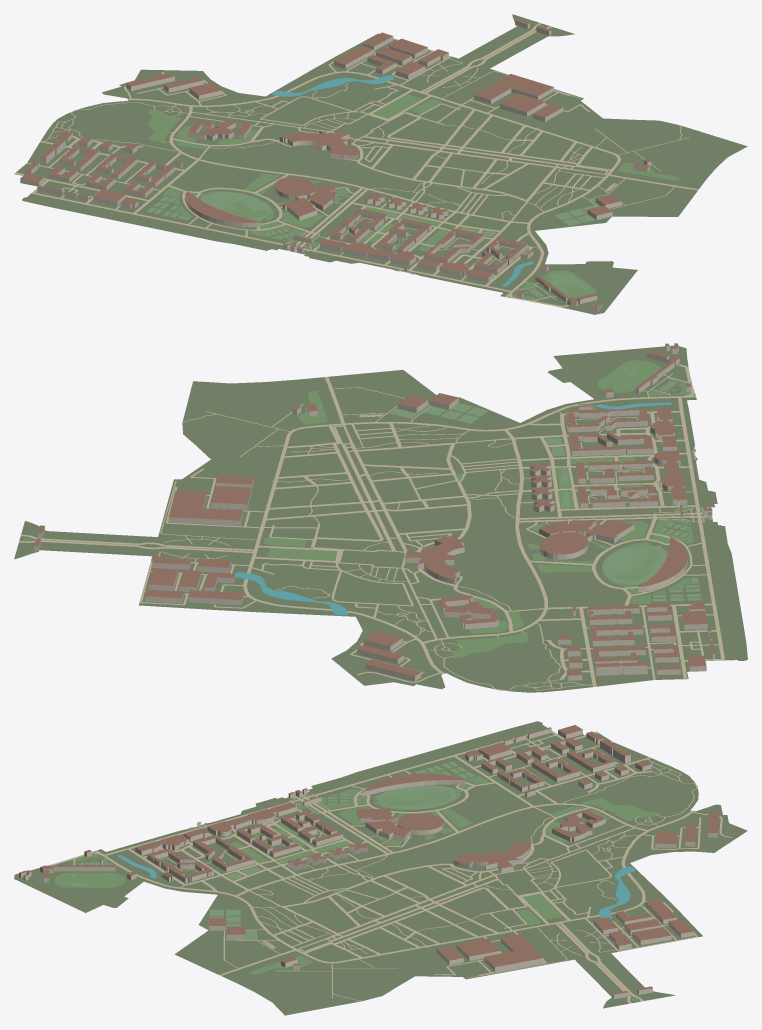
The picture shows the model from 3 angles, top to bottom: view 1: azimuth 30°, elevation 25°; view 2: azimuth 150°, elevation 25°; view 3: azimuth 270°, elevation 25°; orthographic projection. The views are drawn at different scales.
Parts seen in each view (by area): view 1: campus-ground, environment (×4), roofs, buildings; view 2: campus-ground, environment (×4), roofs, buildings; view 3: campus-ground, environment (×4), roofs, buildings.
Part boxes in pixels (left/top/right/bottom): campus-ground: left=14, top=14, right=747, bottom=314; environment (×4): left=15, top=23, right=698, bottom=307; roofs: left=20, top=19, right=650, bottom=307; buildings: left=20, top=20, right=651, bottom=311; campus-ground: left=14, top=345, right=747, bottom=692; environment (×4): left=19, top=360, right=724, bottom=690; roofs: left=34, top=343, right=714, bottom=676; buildings: left=34, top=344, right=715, bottom=681; campus-ground: left=14, top=721, right=747, bottom=1015; environment (×4): left=48, top=730, right=731, bottom=1003; roofs: left=19, top=725, right=719, bottom=994; buildings: left=19, top=728, right=719, bottom=999.
Size of the model in its own units: 1695 by 20.05 by 1786.
